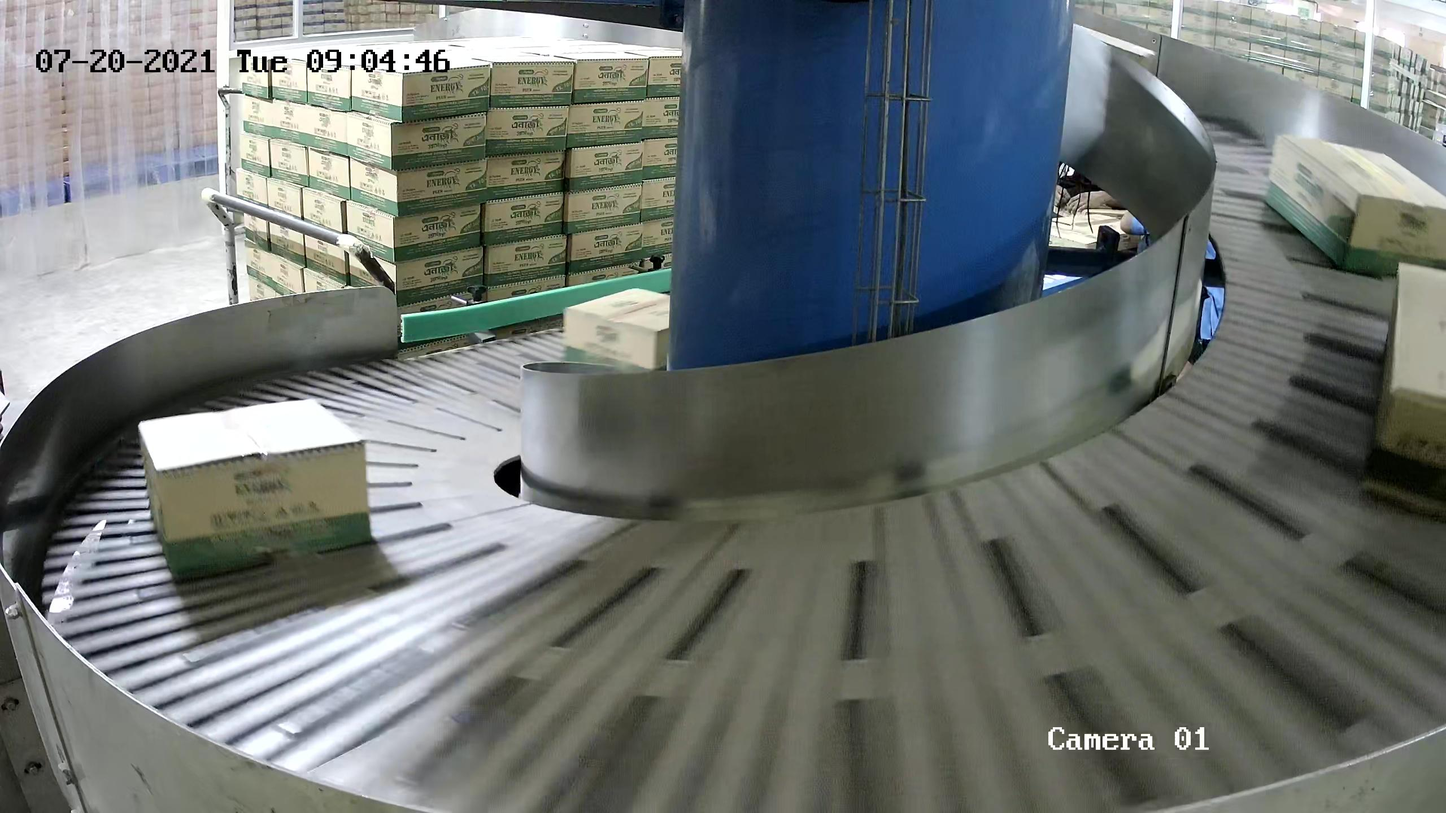Box: (137, 396, 373, 581), (1262, 132, 1446, 276), (1359, 260, 1446, 513), (561, 287, 671, 371)
